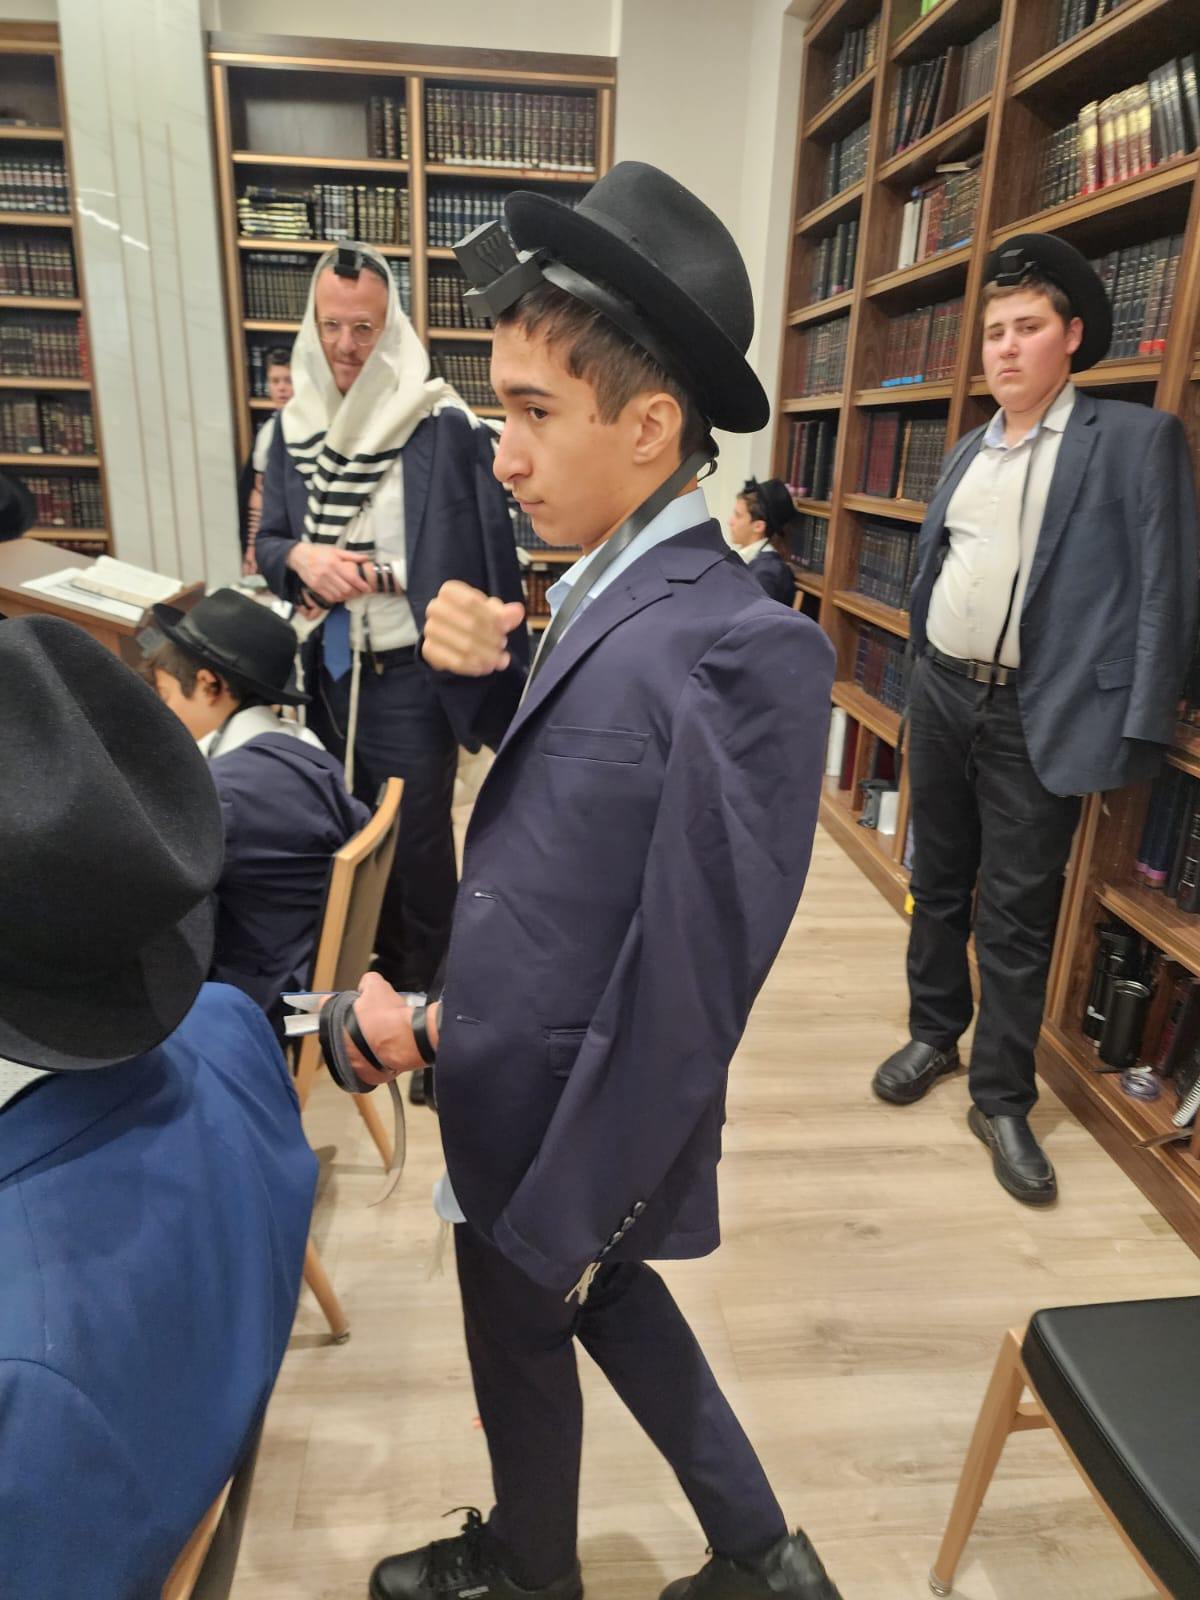tefillin: (453, 220, 539, 316), (997, 248, 1036, 286)
